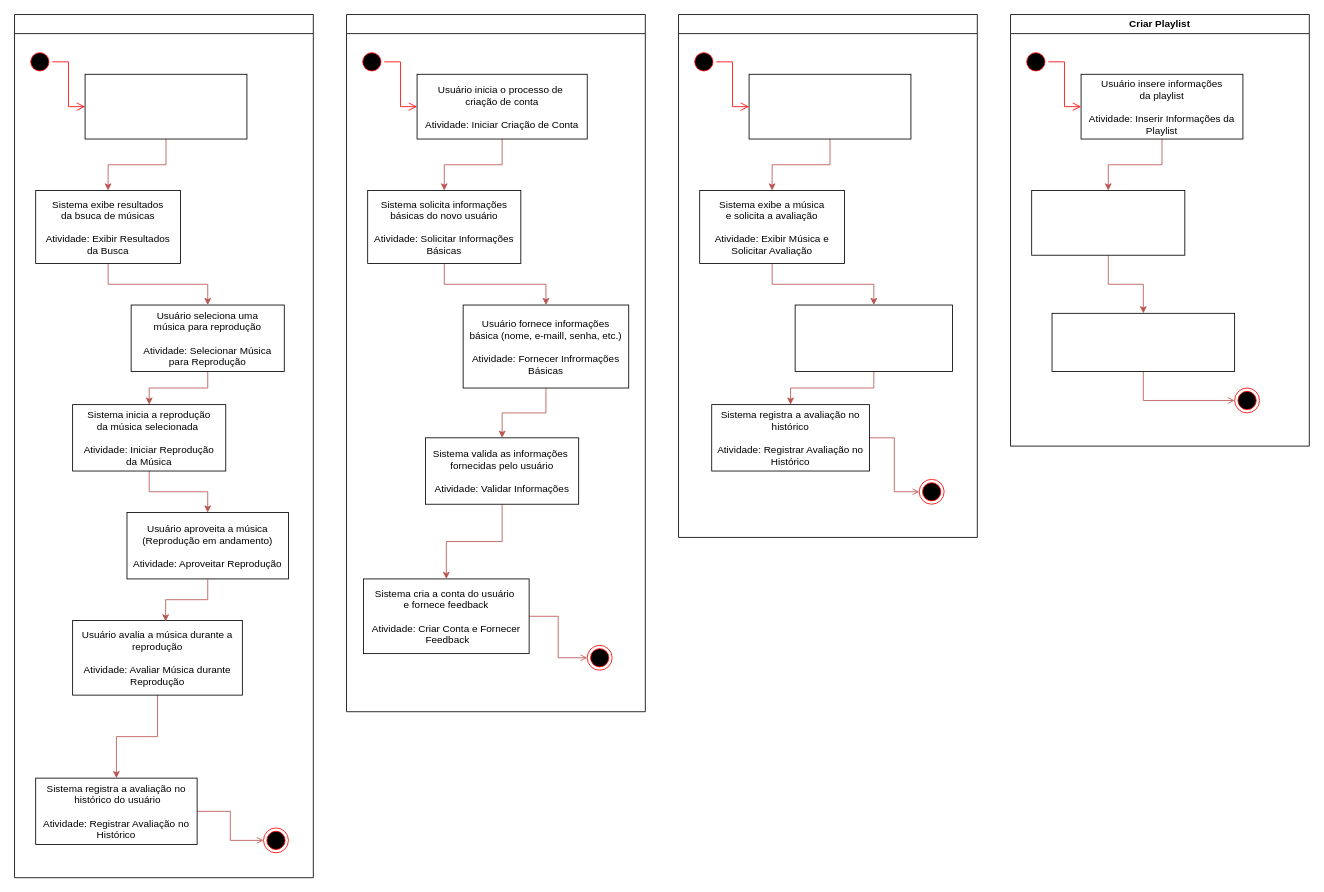
Image size: 1324x892. Some labels were removed from this diagram. Here are the shapes that lost their labels. From the top down, the box of each, then its label:
(84, 73, 247, 139): Usuário inicia a busca por uma música Atividade: Iniciar Busca por Música
(748, 73, 911, 139): Usuário escolhe a música para avaliar Atividade: Escolher Música
(1031, 190, 1185, 255): Sistema valida e cria a playlist Atividade: Validar e Criar Playlist
(678, 14, 977, 537): Avaliar Música
(794, 304, 952, 371): Usuário atribui uma nota de 1 a 5 á música Atividade: Atribuir Nota
(1051, 312, 1235, 371): Sistema adiciona músicas á playlist Atividade: Adicionra Músicas á Playlist
(346, 14, 645, 712): Criar Conta de Usuário
(14, 14, 313, 878): Consumir Música
